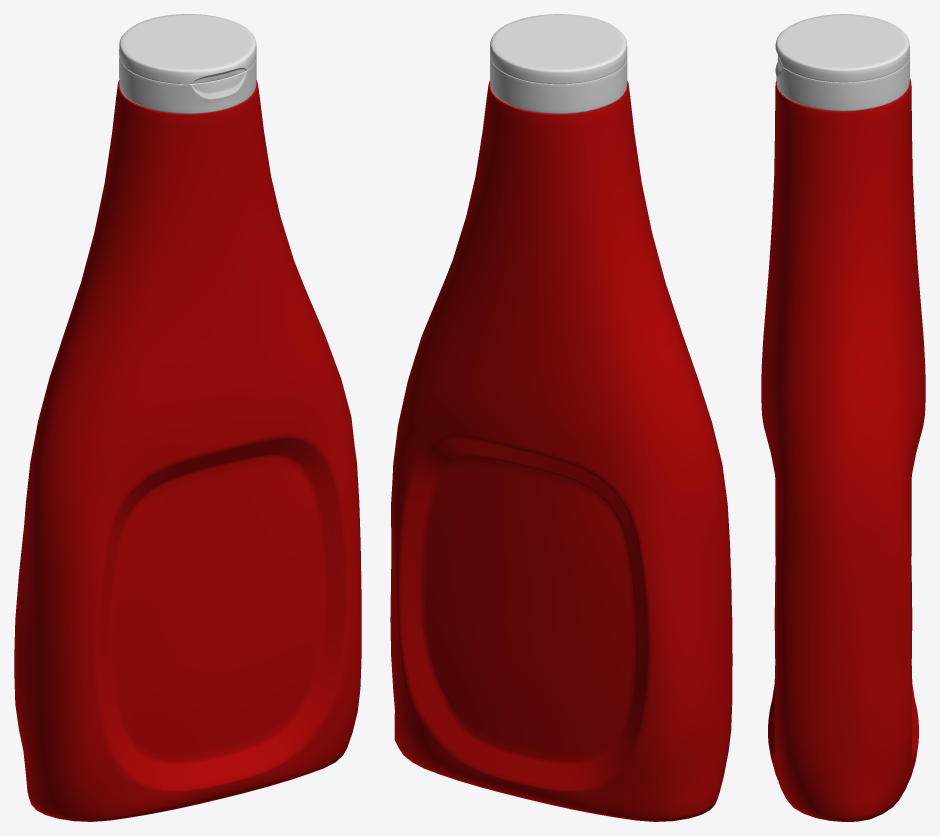
File: Catchup_Bottle.fbx
3 views of the same model, side by side, from view 1: azimuth 30°, elevation 25°; view 2: azimuth 150°, elevation 25°; view 3: azimuth 270°, elevation 25° (orthographic). The views are drawn at different scales.
Visible parts, largest first — view 1: pCylinder3, pPlane5; view 2: pCylinder3, pPlane5; view 3: pCylinder3, pPlane5.
Part boxes in pixels (x1,y1,x2,y2): pCylinder3: (14, 79, 361, 821); pPlane5: (119, 14, 256, 113); pCylinder3: (390, 80, 732, 821); pPlane5: (490, 14, 627, 113); pCylinder3: (761, 79, 925, 821); pPlane5: (775, 14, 909, 111).
Size of the model in its own units: 2.03 by 4.5 by 0.9416.
